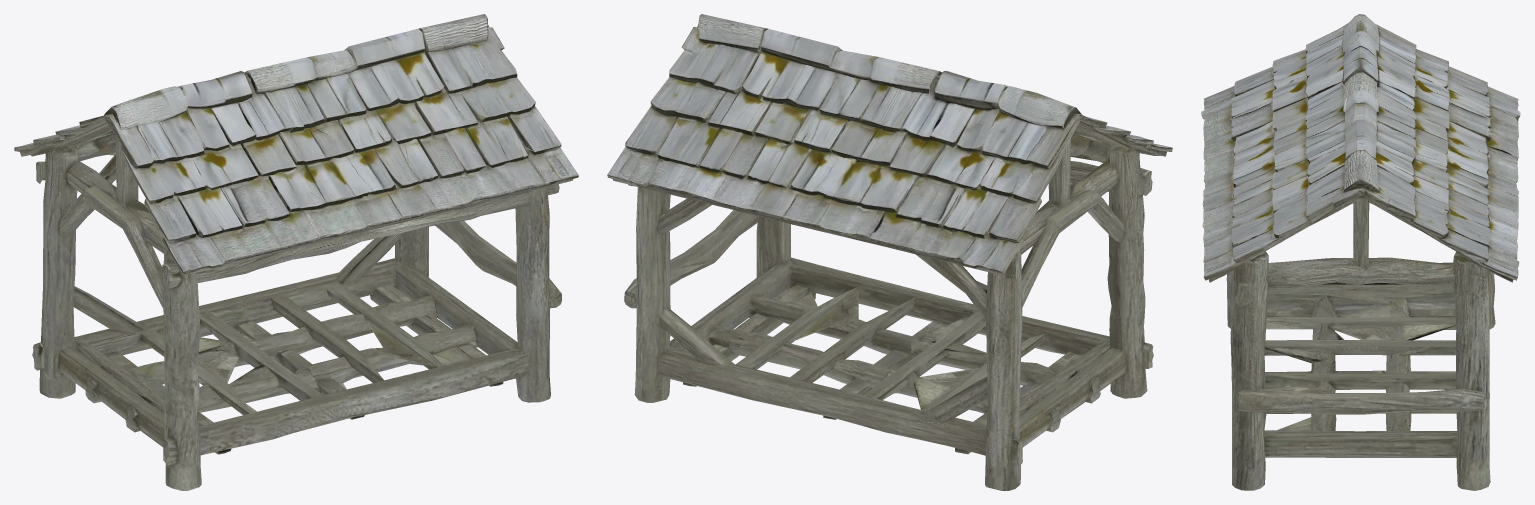
The model's file is deer_feeder.glb.
3 renders of one model, left to right at view 1: azimuth 30°, elevation 25°; view 2: azimuth 150°, elevation 25°; view 3: azimuth 270°, elevation 25°, orthographic. The views are drawn at different scales.
Size of the model in its own units: 1.9 by 1.52 by 1.41.
Materials: 1 (1 with a texture image).
